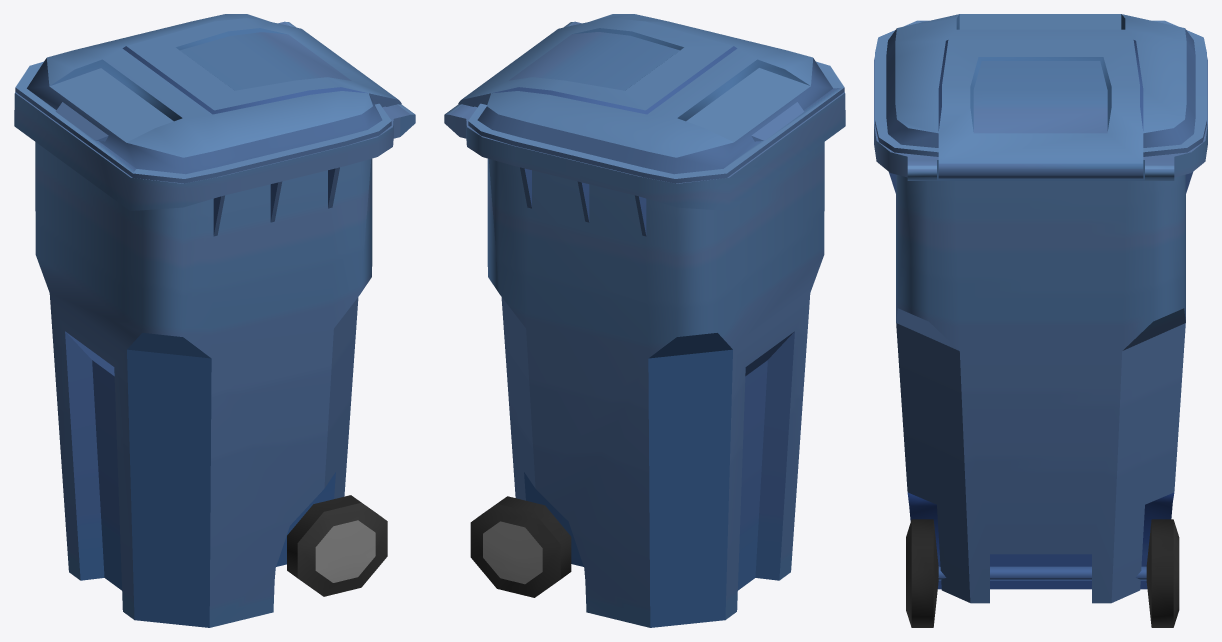
File: Trash Can.fbx
The picture shows the model from 3 angles, left to right: view 1: azimuth 30°, elevation 25°; view 2: azimuth 150°, elevation 25°; view 3: azimuth 270°, elevation 25°; orthographic projection. The views are drawn at different scales.
Parts seen in each view (by area): view 1: Trash_Can; view 2: Trash_Can; view 3: Trash_Can.
Part boxes in pixels (x1=…): Trash_Can: x1=14, y1=14, x2=415, y2=627; Trash_Can: x1=444, y1=14, x2=845, y2=627; Trash_Can: x1=874, y1=14, x2=1207, y2=627.
Size of the model in its own units: 54.23 by 92.58 by 53.06.
